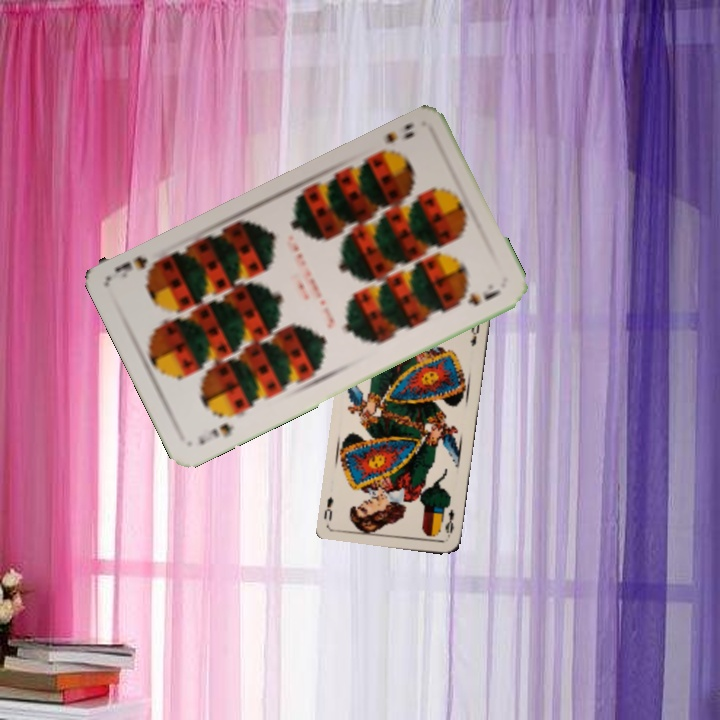EO: (441, 505, 457, 541)
S9: (194, 419, 237, 447), (381, 118, 418, 147)
